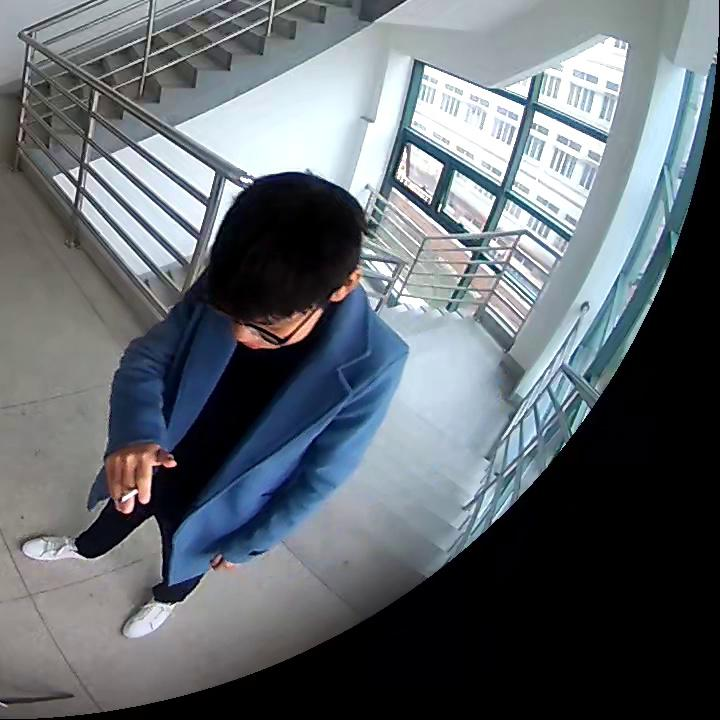handsmoke: (104, 448, 175, 512)
handwithoutsmoke: (209, 548, 243, 574)
mouthwithoutsmoke: (211, 170, 368, 349)
